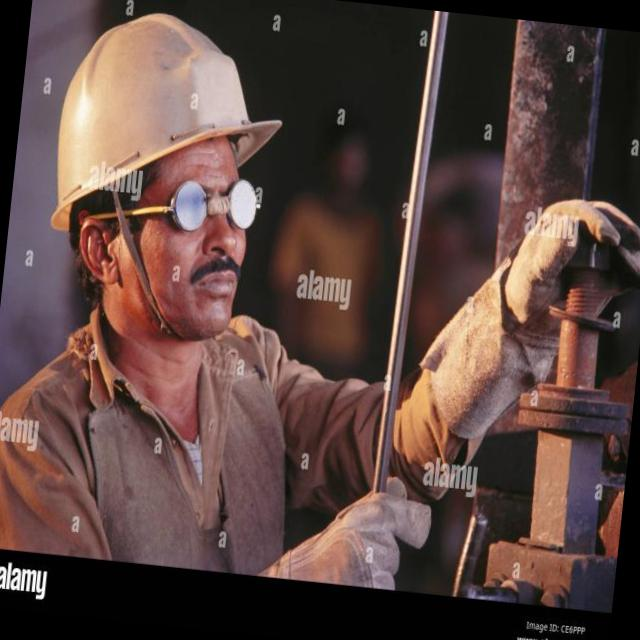Gloves: (412, 136, 640, 471), (272, 473, 481, 604)
Helmet: (36, 1, 294, 246)
